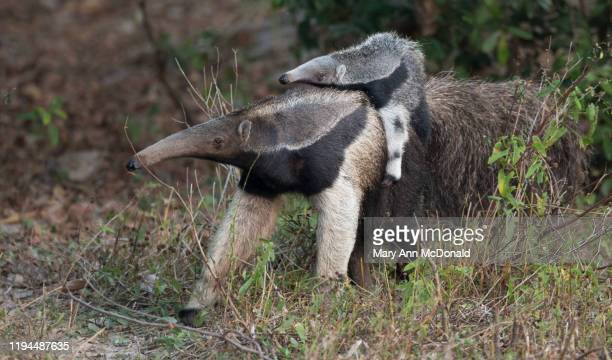TamanduaBandeira: (106, 82, 552, 334), (271, 30, 438, 185)
